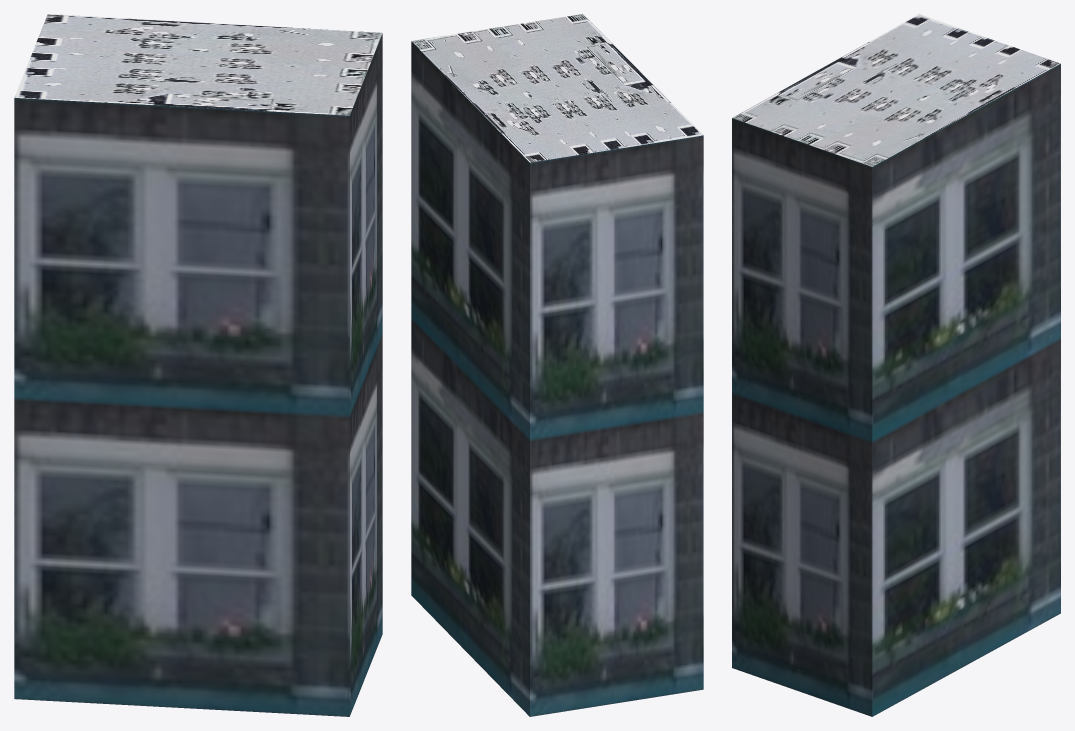
File: ResTex__347.fbx
3 views of the same model, side by side, from view 1: azimuth 30°, elevation 25°; view 2: azimuth 150°, elevation 25°; view 3: azimuth 270°, elevation 25° (orthographic). The views are drawn at different scales.
Parts seen in each view (by area): view 1: CityEngineMaterial_11_m, CityEngineMaterial_4_m; view 2: CityEngineMaterial_11_m, CityEngineMaterial_4_m; view 3: CityEngineMaterial_11_m, CityEngineMaterial_4_m.
Part boxes in pixels (x1,y1,x2,y2): CityEngineMaterial_11_m: (14, 33, 382, 716); CityEngineMaterial_4_m: (14, 14, 382, 115); CityEngineMaterial_11_m: (411, 41, 703, 716); CityEngineMaterial_4_m: (411, 14, 703, 162); CityEngineMaterial_11_m: (732, 63, 1060, 716); CityEngineMaterial_4_m: (732, 14, 1060, 166).
Bounding box in the file's own units: 3.58 × 6 × 3.25.
2 materials, 2 textured.
